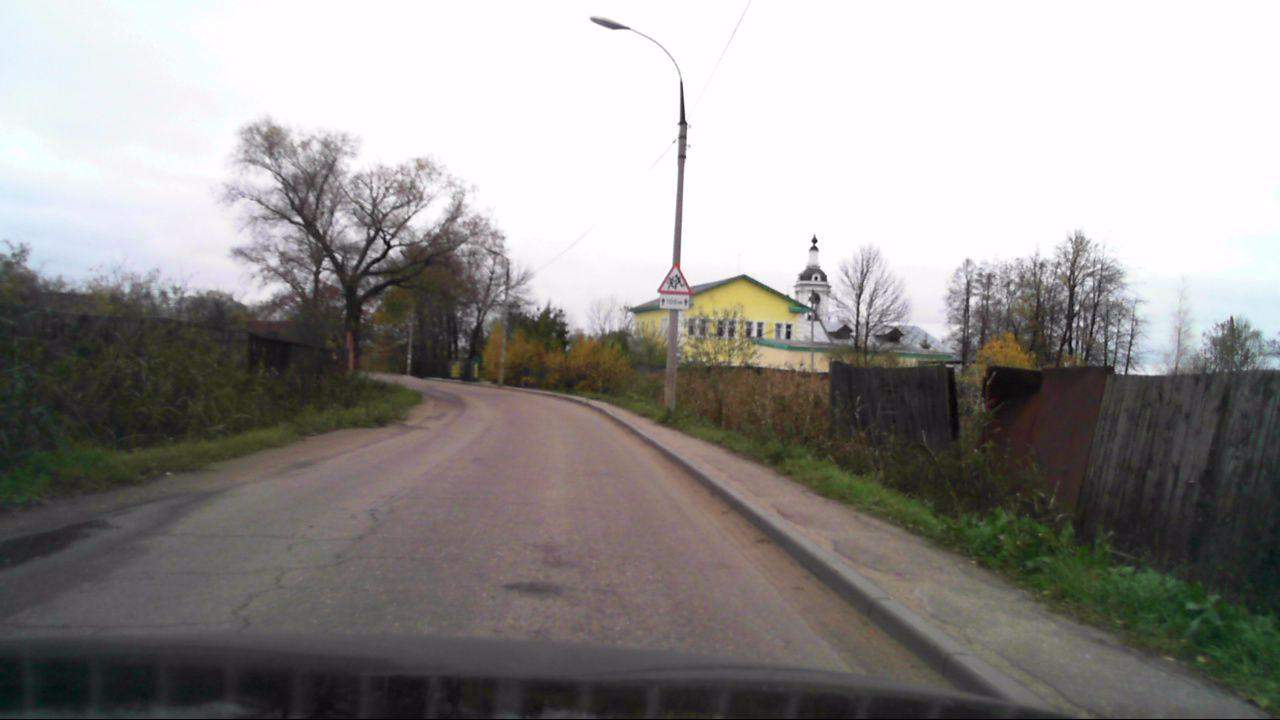road_sign: (656, 263, 693, 294), (660, 294, 689, 309)
